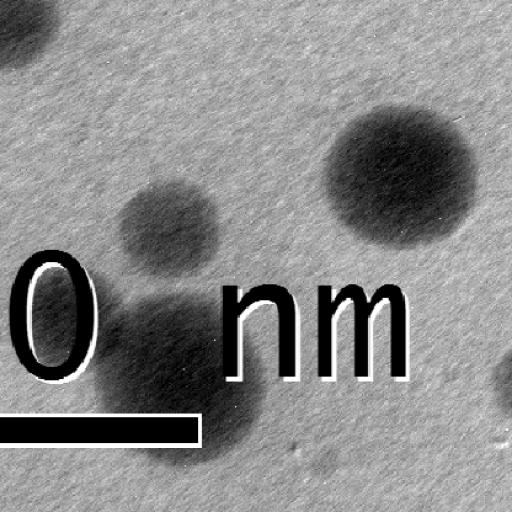Nanoparticles: (88, 290, 264, 456), (315, 106, 483, 244), (111, 184, 231, 271), (35, 272, 111, 361), (3, 0, 65, 71), (484, 353, 512, 411)
